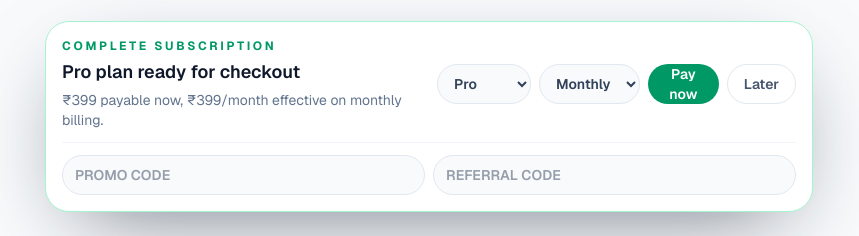
Test: PendingSubscriptionCheckout › reprices and re-remembers when the plan is changed
The width and height of the screenshot is (859, 236).
Expected: the heading "Pro plan ready for checkout" is shown, [62,60,300,83]
Select "Starter" in the dropdown named "Subscription plan" at (484, 84), box [437,64,531,104]
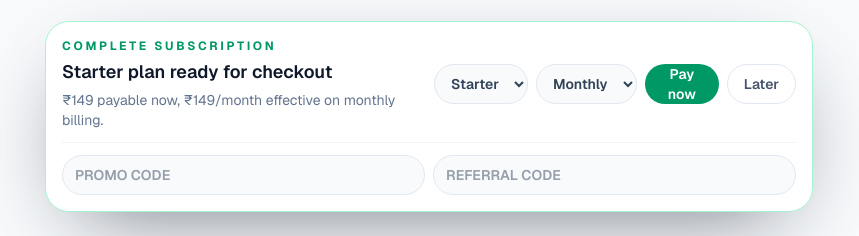
Now the heading "Starter plan ready for checkout" is shown, box [62,60,332,83]
Now the text "₹149 payable now, ₹149/month effective on monthly billing." is shown, box [62,90,418,130]
